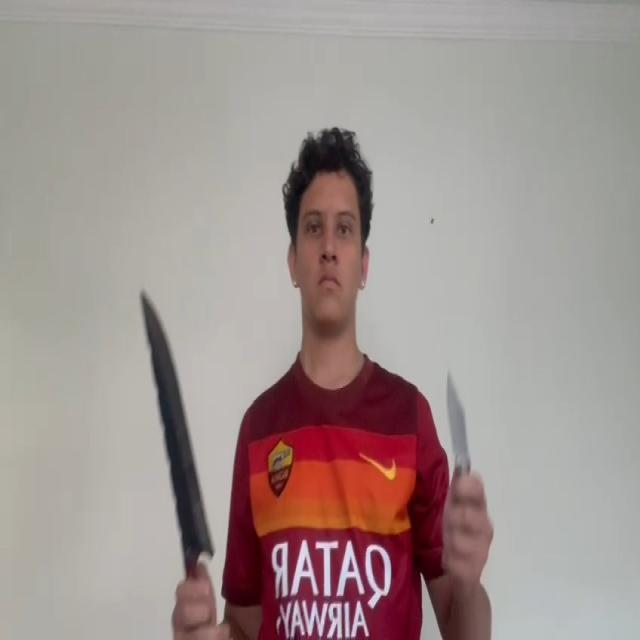knife: (140, 295, 214, 560), (446, 374, 469, 459)
